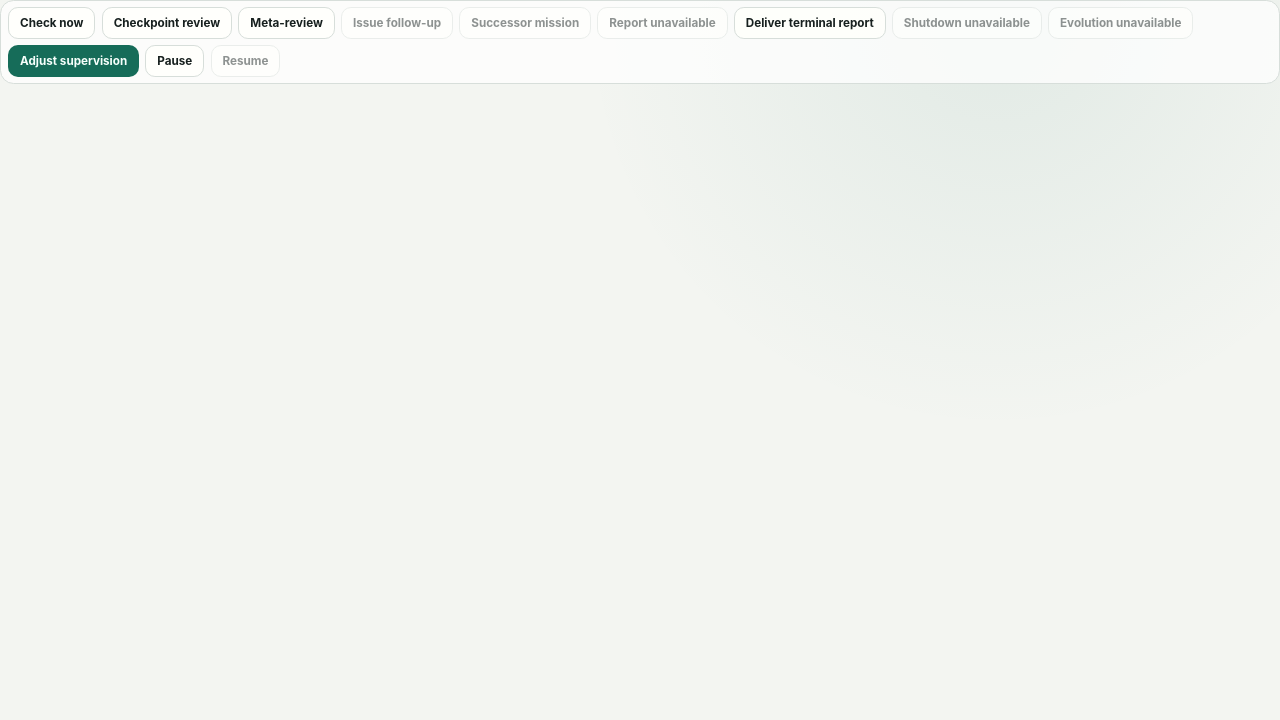
Test case: Factory workflow action strips › previews one terminal-report delivery stage without stop, pause, or shutdown
Click the button "Deliver terminal report" at (810, 23), box [734,7,886,39]
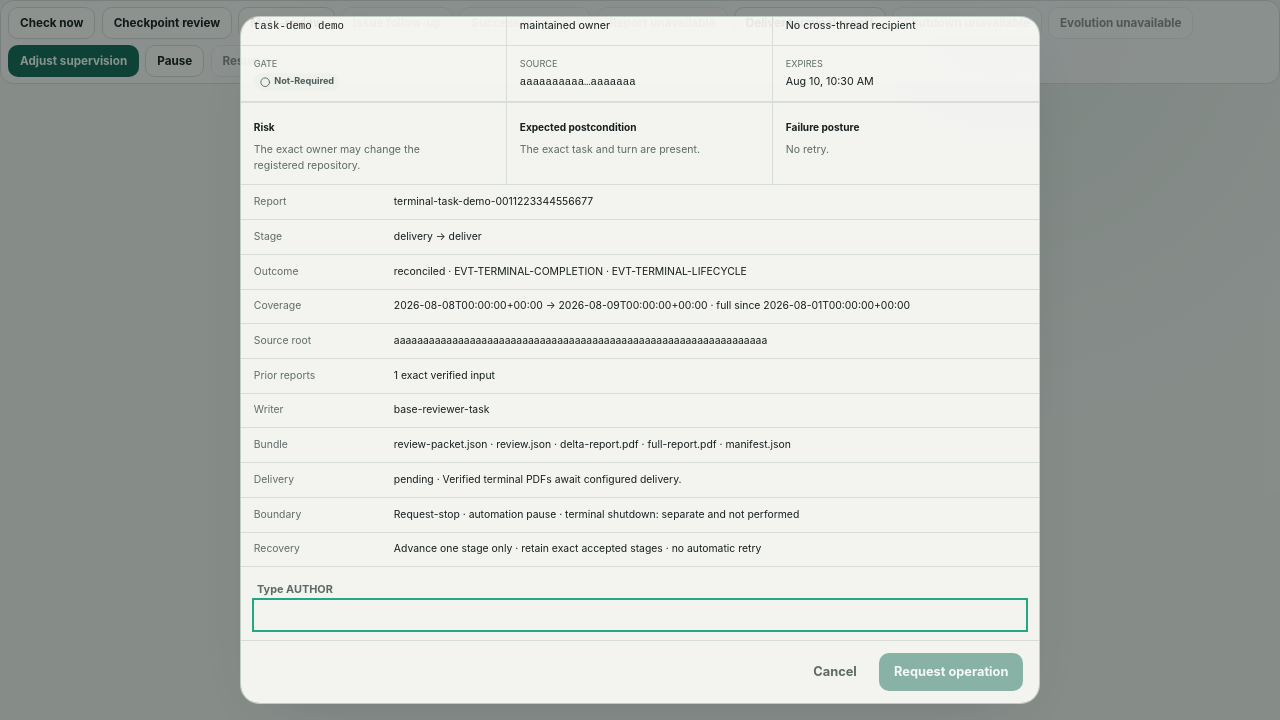
Now the text "terminal-task-demo-0011223344556677" is shown, box [394,195,593,208]
Now the text "reconciled · EVT-TERMINAL-COMPLETION · EVT-TERMINAL-LIFECYCLE" is shown, box [394,265,747,278]
Now the text "Request-stop · automation pause · terminal shutdown" shows "separate and not performed", box [394,508,799,521]
